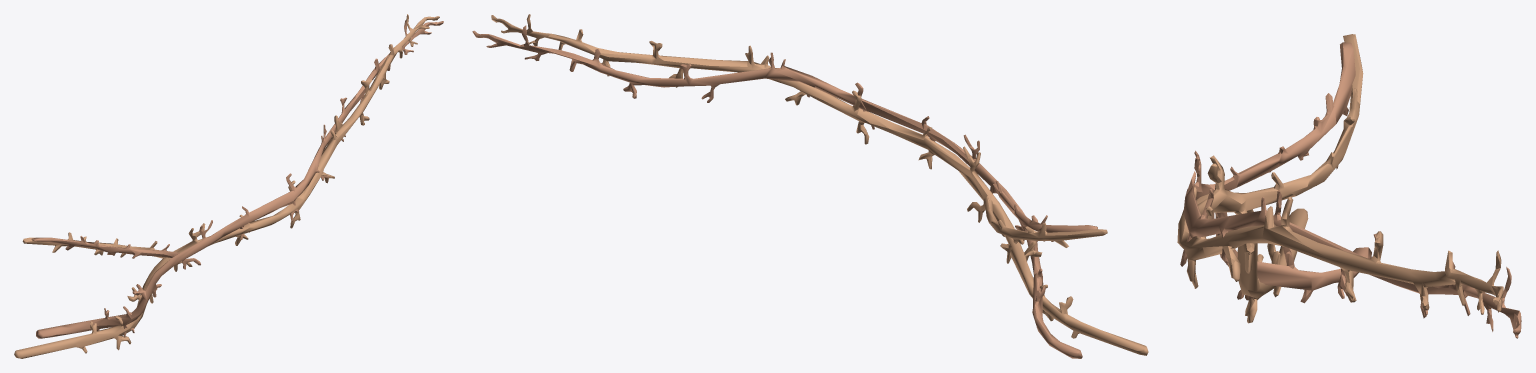
Rendered from pancreatic-ducts.glb.
3 views of the same model, side by side, from view 1: azimuth 30°, elevation 25°; view 2: azimuth 150°, elevation 25°; view 3: azimuth 270°, elevation 25° (orthographic). The views are drawn at different scales.
Parts seen in each view (by area): view 1: FJ2630 Pancreatic duct tree, FJ1896 Pancreatic duct; view 2: FJ2630 Pancreatic duct tree, FJ1896 Pancreatic duct; view 3: FJ2630 Pancreatic duct tree, FJ1896 Pancreatic duct.
Part boxes in pixels (x1=…): FJ2630 Pancreatic duct tree: x1=14, y1=14, x2=439, y2=358; FJ1896 Pancreatic duct: x1=31, y1=20, x2=443, y2=338; FJ2630 Pancreatic duct tree: x1=491, y1=14, x2=1148, y2=355; FJ1896 Pancreatic duct: x1=472, y1=25, x2=1097, y2=358; FJ2630 Pancreatic duct tree: x1=1177, y1=34, x2=1503, y2=323; FJ1896 Pancreatic duct: x1=1180, y1=42, x2=1521, y2=338.
Bounding box in the file's own units: 0.1182 × 0.0484 × 0.0364.
